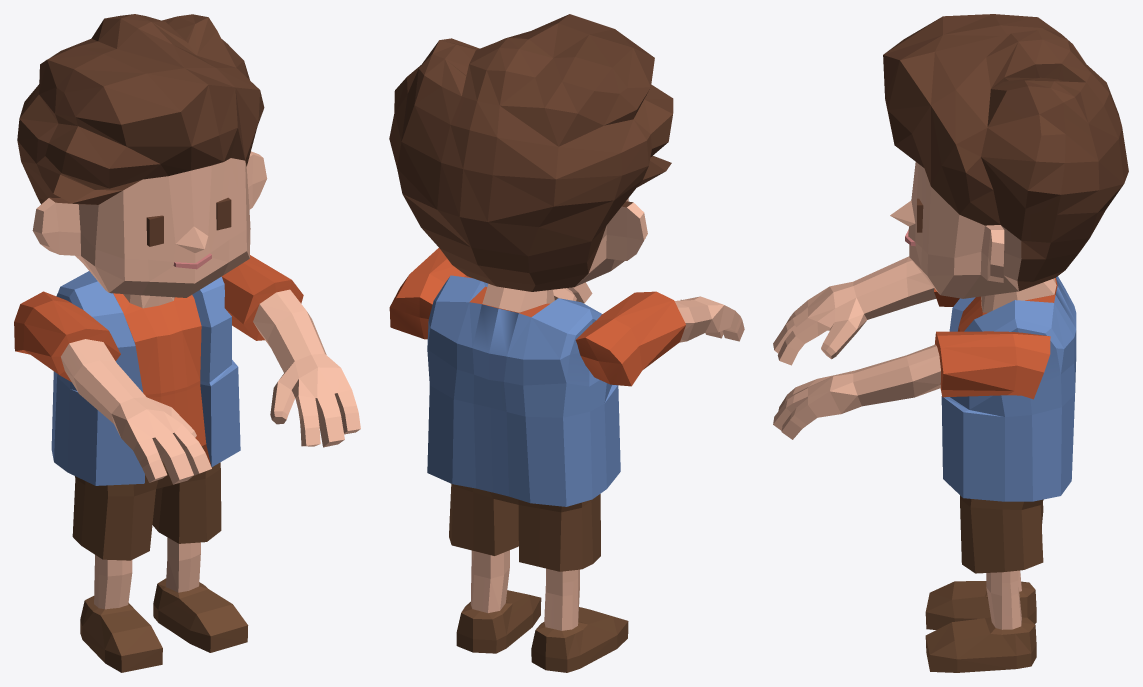
Rendered from gg_dismembered_01.fbx.
3 renders of one model, left to right at view 1: azimuth 30°, elevation 25°; view 2: azimuth 150°, elevation 25°; view 3: azimuth 270°, elevation 25°, orthographic. The views are drawn at different scales.
Parts seen in each view (by area): view 1: SM_gg_head, SM_gg_body, SM_gghand_R, SM_gghand_L, SM_gg_eyes; view 2: SM_gg_head, SM_gg_body, SM_gghand_R, SM_gghand_L; view 3: SM_gg_head, SM_gg_body, SM_gghand_L, SM_gghand_R.
Part boxes in pixels (x1,y1,x2,y2): SM_gg_head: [17, 14, 267, 308]; SM_gg_body: [51, 271, 248, 672]; SM_gghand_R: [14, 291, 211, 484]; SM_gghand_L: [221, 255, 360, 447]; SM_gg_eyes: [146, 197, 231, 246]; SM_gg_head: [389, 14, 673, 312]; SM_gg_body: [427, 275, 628, 672]; SM_gghand_R: [575, 291, 744, 386]; SM_gghand_L: [389, 248, 592, 339]; SM_gg_head: [883, 14, 1128, 312]; SM_gg_body: [925, 276, 1076, 672]; SM_gghand_L: [773, 331, 1050, 439]; SM_gghand_R: [773, 256, 959, 365].
Bounding box in the file's own units: 84.95 × 194 × 103.
